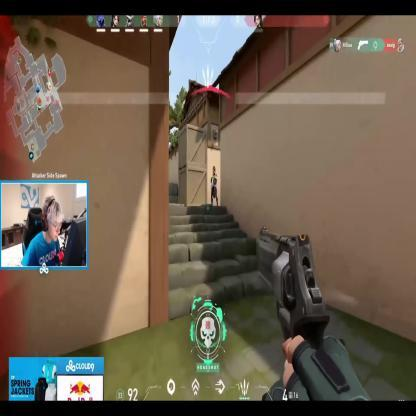enemy: (209, 165, 218, 207)
enemy_head: (212, 166, 216, 175)
